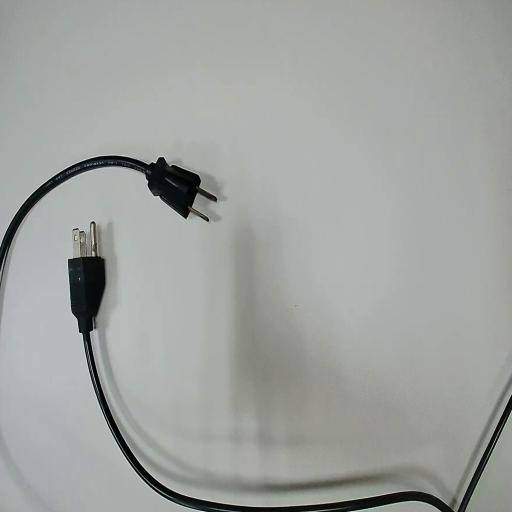wire: (69, 256, 452, 511), (0, 157, 215, 264)
